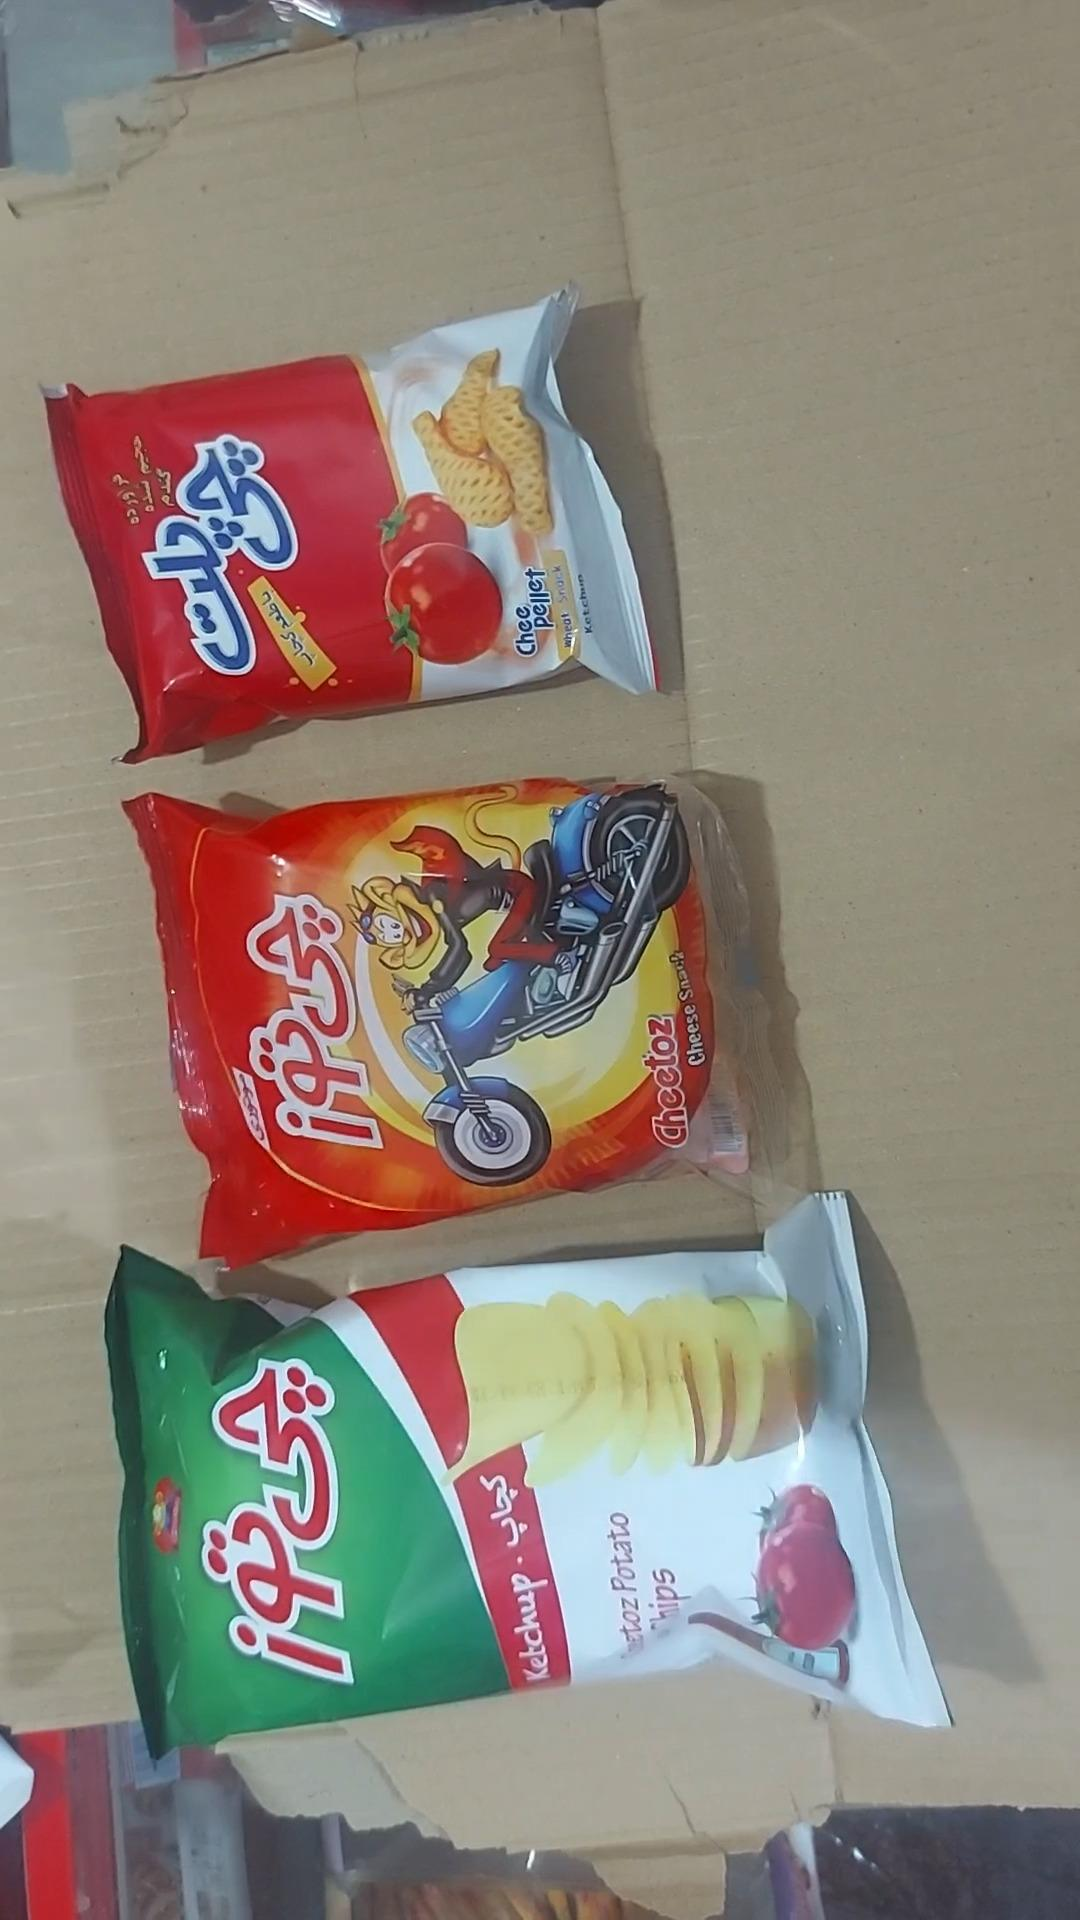Chee pellet ketchup: (45, 290, 659, 762)
Cheetoz ketchup chips: (105, 1195, 949, 1753)
Cheetoz snack 30g: (124, 779, 783, 1266)
